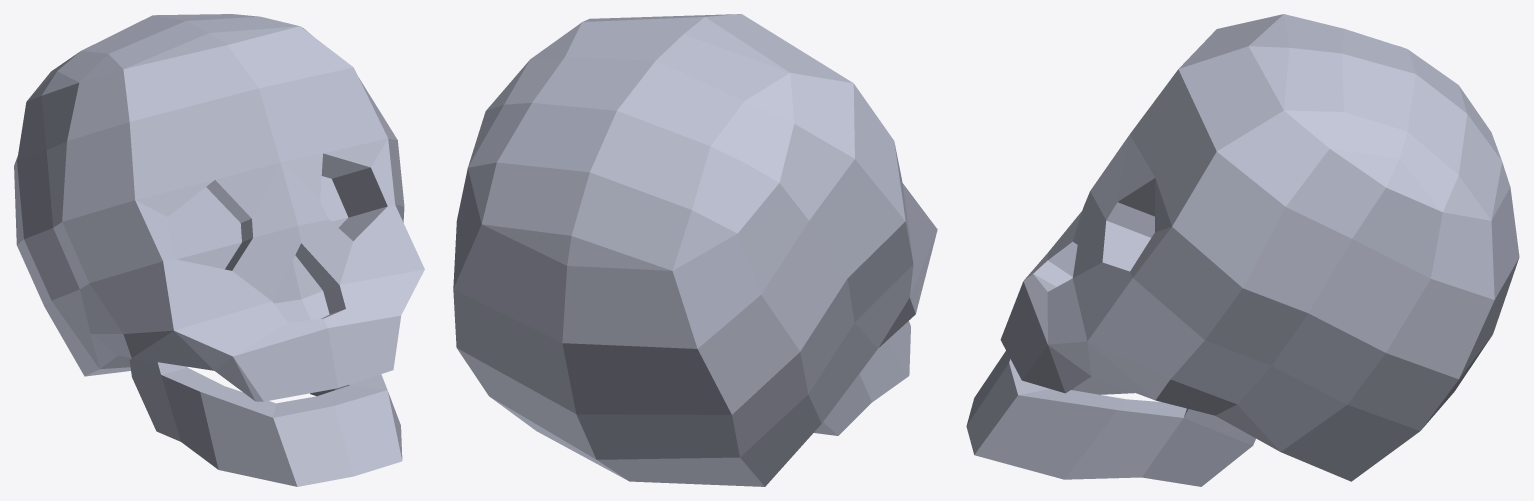
File: Skull.glb
3 views of the same model, side by side, from view 1: azimuth 30°, elevation 25°; view 2: azimuth 150°, elevation 25°; view 3: azimuth 270°, elevation 25° (orthographic). The views are drawn at different scales.
Visible parts, largest first — view 1: Skull; view 2: Skull; view 3: Skull.
Part boxes in pixels (x1,y1,x2,y2): Skull: (14,14,424,486); Skull: (453,14,937,486); Skull: (966,14,1519,486).
Bounding box in the file's own units: 0.237 × 0.2364 × 0.3019.
Materials: 1 (1 with a texture image).
